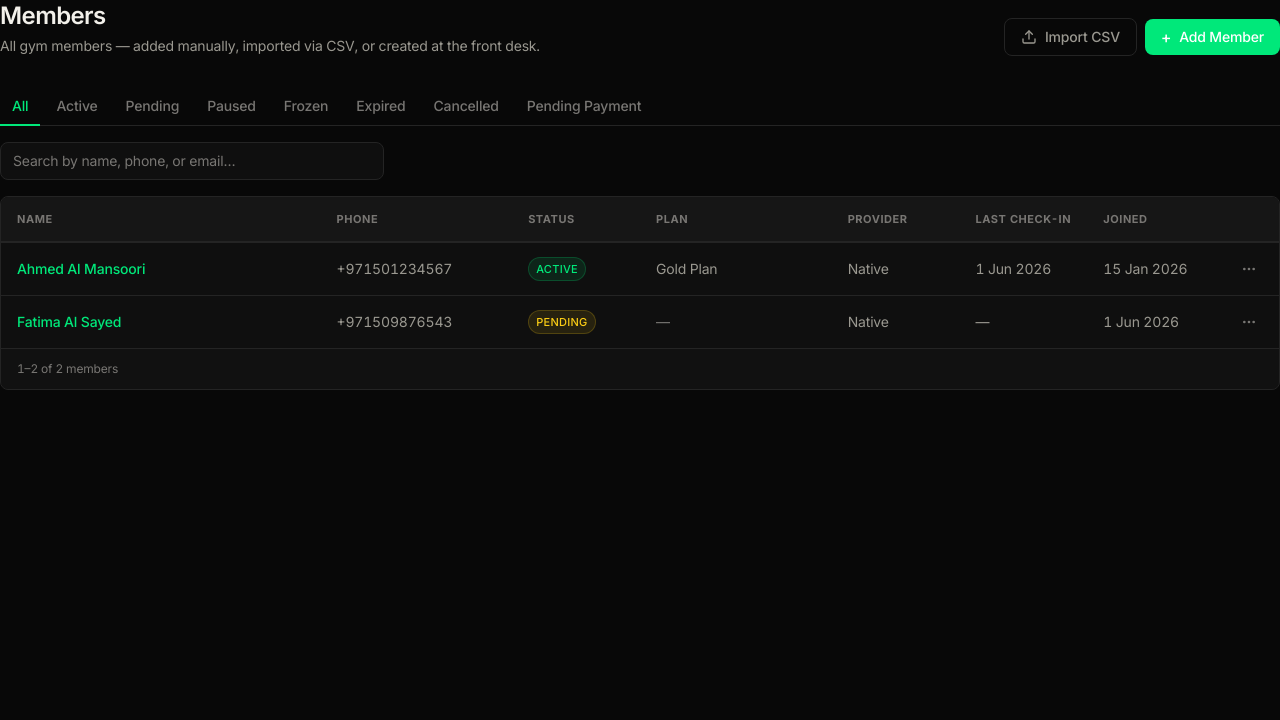
Test: MembersClient › add member flow › opens Add Member modal when button clicked
Click the button "+ Add Member".
click(1212, 37)  # box 1145,19 -> 1279,55
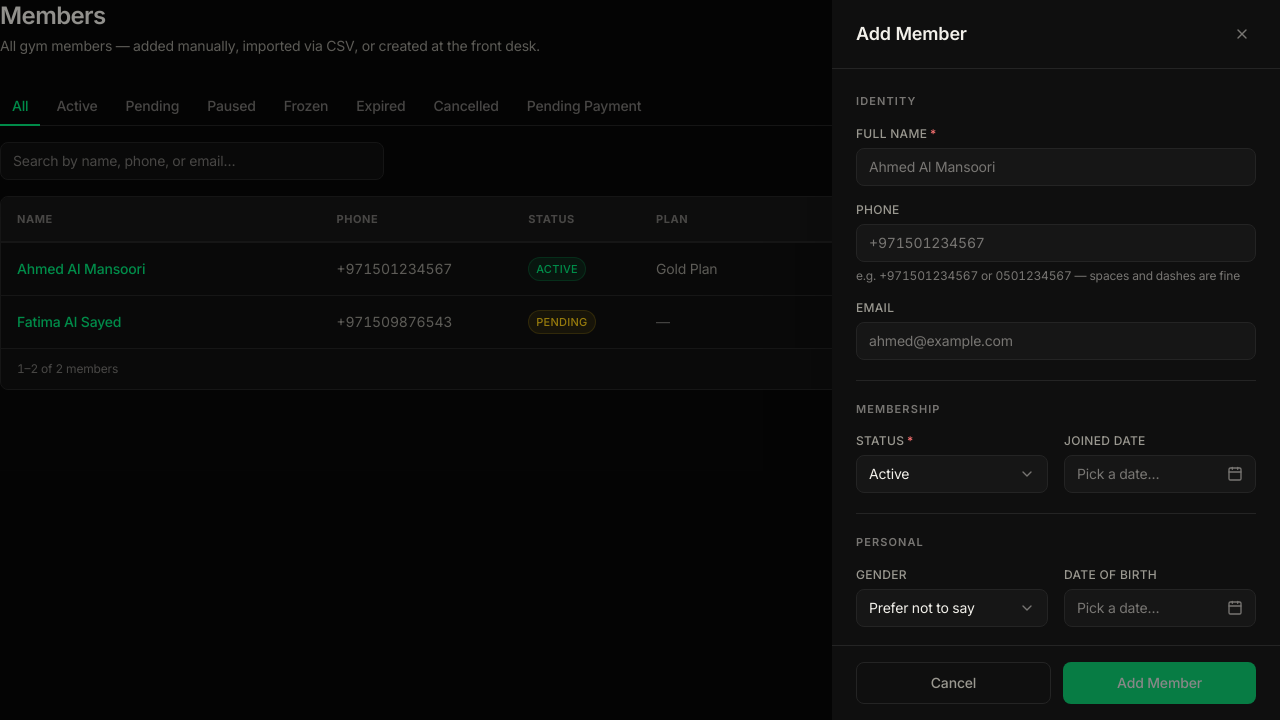
Now the dialog "Add Member" is shown
